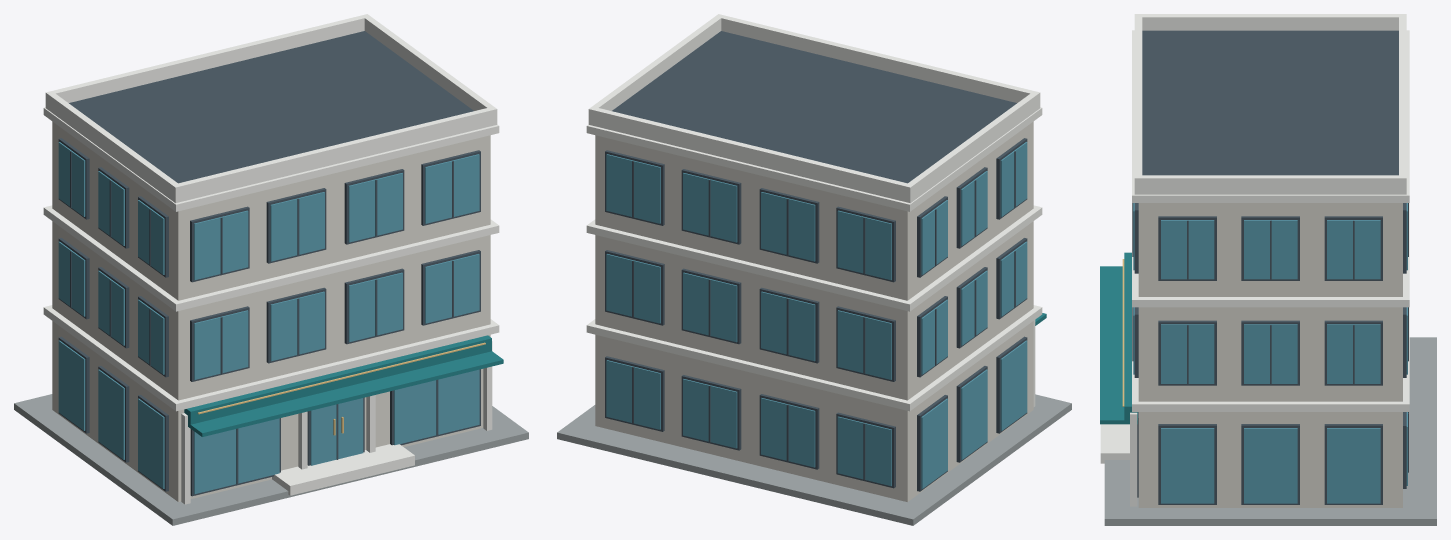
The model's file is sample-building.glb.
3 renders of one model, left to right at view 1: azimuth 30°, elevation 25°; view 2: azimuth 150°, elevation 25°; view 3: azimuth 270°, elevation 25°, orthographic. The views are drawn at different scales.
Parts seen in each view (by area): view 1: sample-building; view 2: sample-building; view 3: sample-building.
Boxes of the visible parts, x1=… form: sample-building: x1=14, y1=14, x2=528, y2=525; sample-building: x1=557, y1=14, x2=1071, y2=525; sample-building: x1=1100, y1=14, x2=1436, y2=525.
Size of the model in its own units: 11.4 by 9.9 by 8.92.
